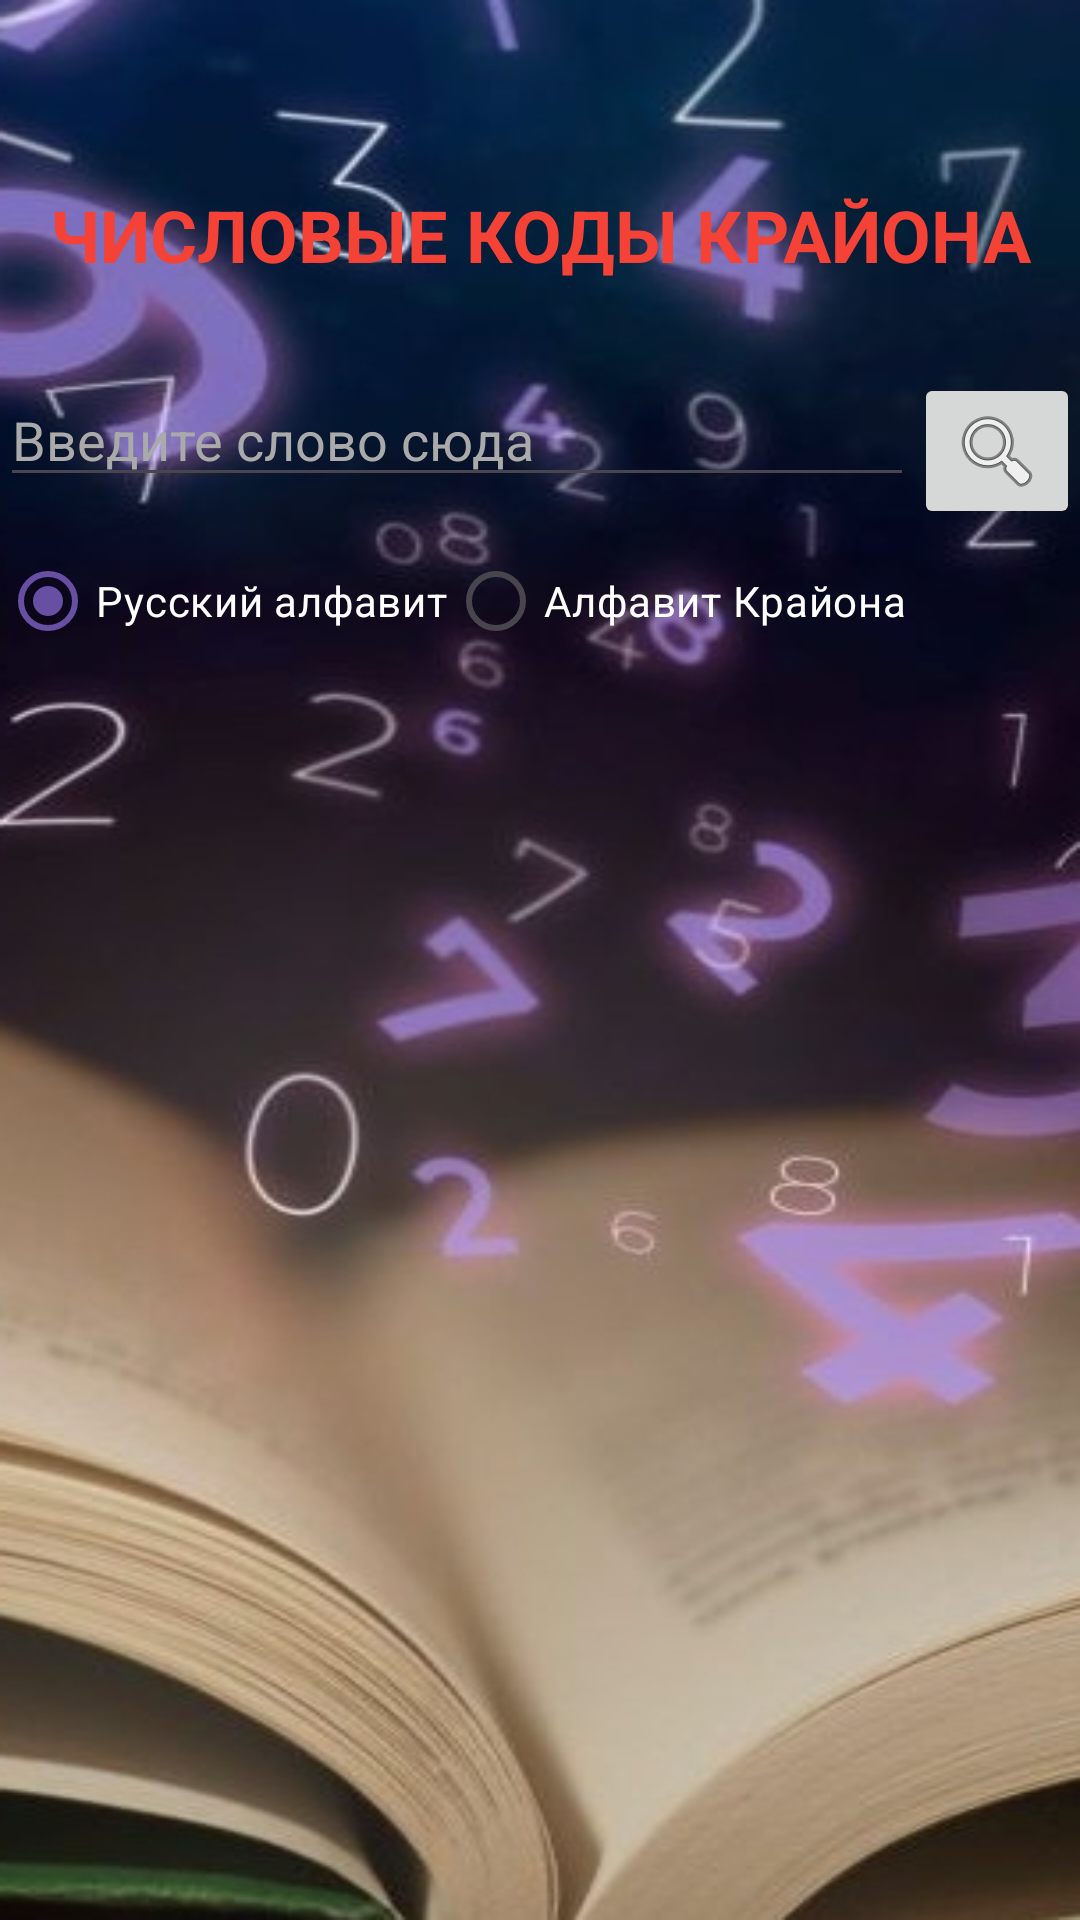

Point at icon controls on the screen. Image size 1080×1920, points as (x,y).
Search button: (997,460)
